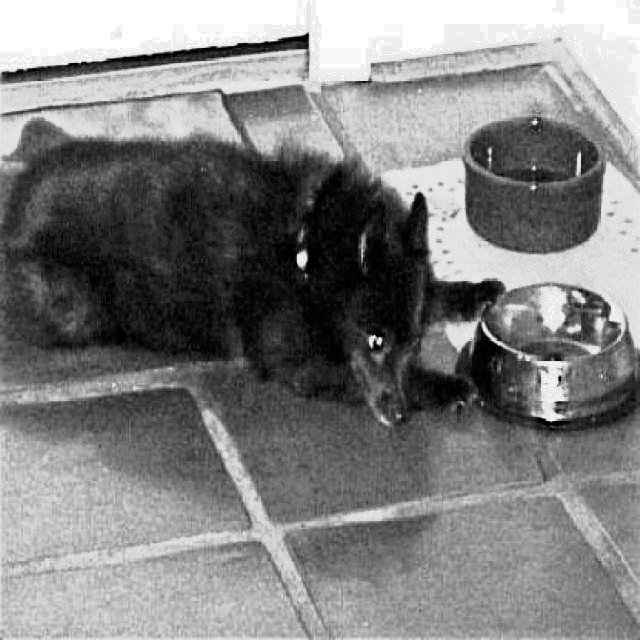Dog: (0, 118, 517, 435)
